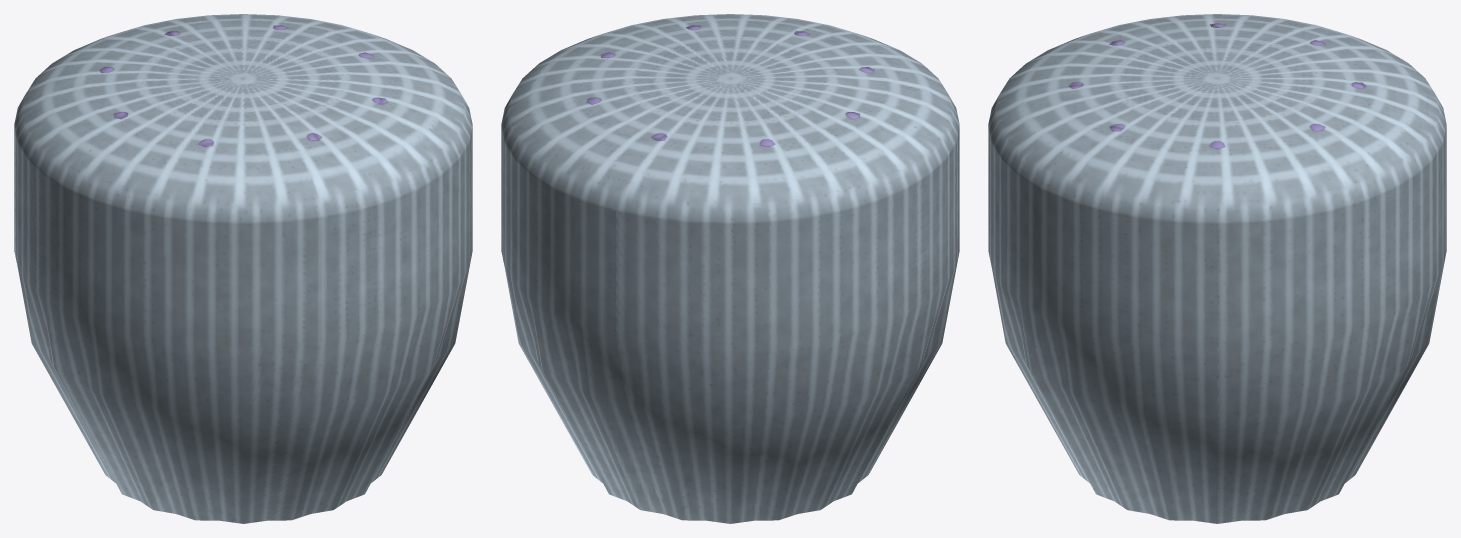
The model's file is shell_b1_glass_dome.glb.
The picture shows the model from 3 angles, left to right: view 1: azimuth 30°, elevation 25°; view 2: azimuth 150°, elevation 25°; view 3: azimuth 270°, elevation 25°; orthographic projection.
Parts seen in each view (by area): view 1: ShellB1GlassDome; view 2: ShellB1GlassDome; view 3: ShellB1GlassDome.
Boxes of the visible parts, <box> form: ShellB1GlassDome: <box>14,14,472,523</box>; ShellB1GlassDome: <box>501,14,959,523</box>; ShellB1GlassDome: <box>988,14,1446,523</box>.
Bounding box in the file's own units: 2.7 × 2.66 × 2.7.
Materials: 2 (2 with a texture image).
